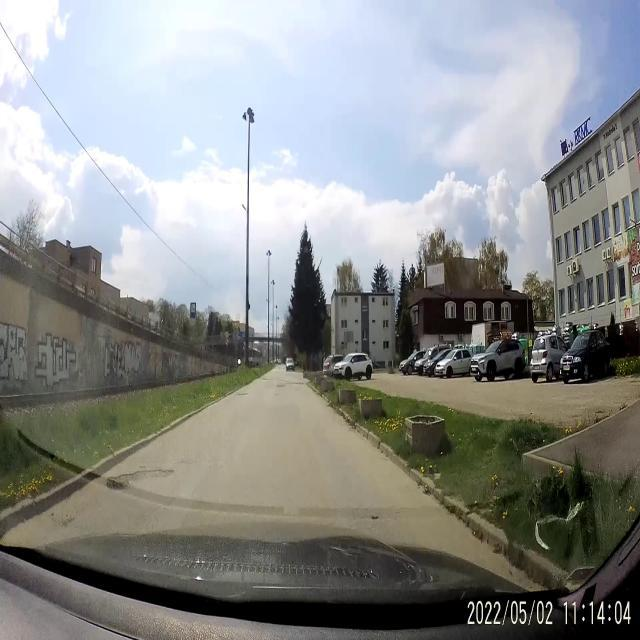Pothole: (105, 460, 177, 492), (232, 390, 250, 397), (260, 376, 275, 384), (276, 381, 288, 388), (273, 391, 282, 396), (232, 396, 233, 398)
